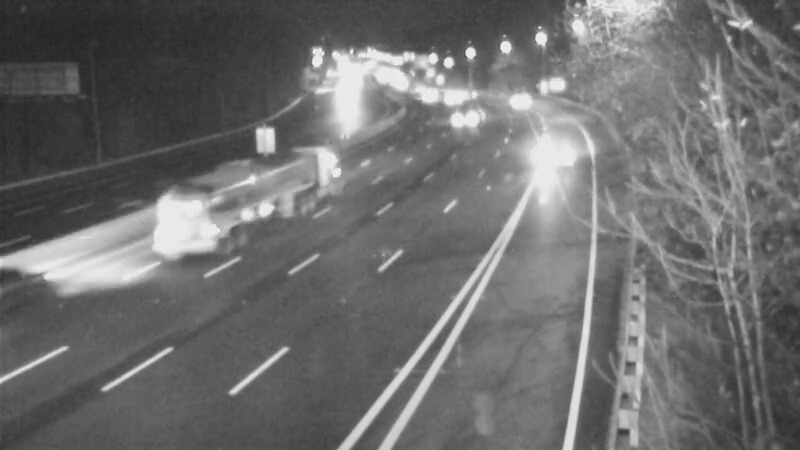vehicle: (508, 121, 588, 201), (129, 184, 209, 264), (1, 243, 70, 323), (442, 68, 492, 118), (489, 80, 539, 130), (424, 70, 474, 120), (440, 94, 490, 144)
